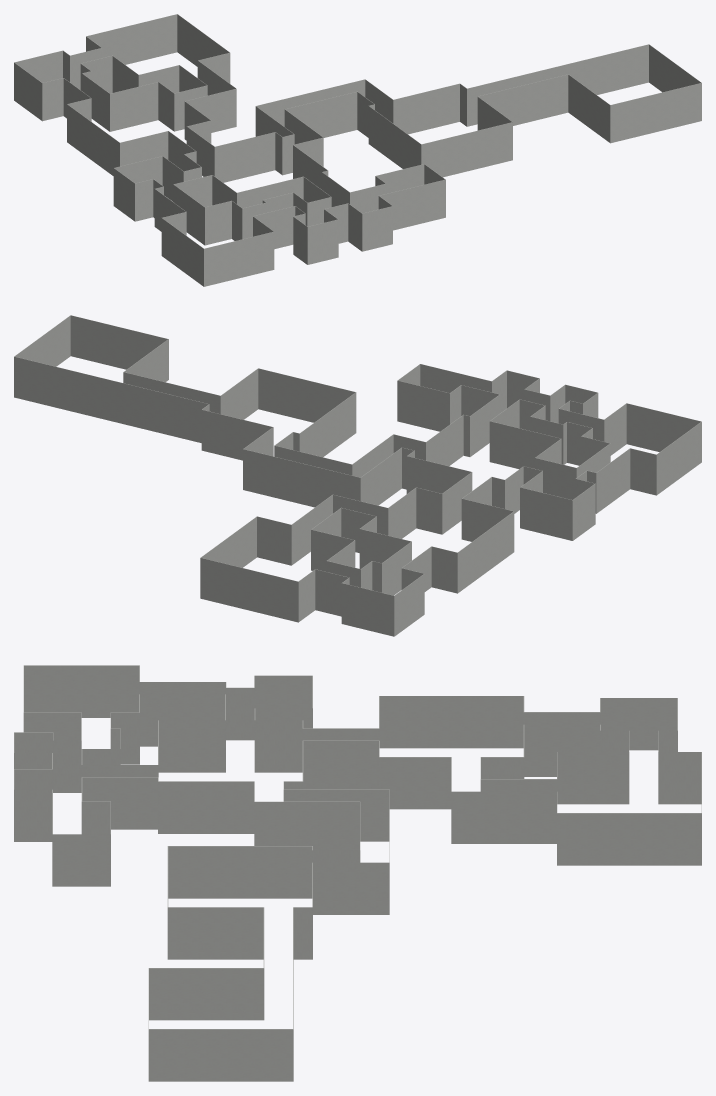
Rendered from Level2Walls.fbx.
3 views of the same model, one above another, from view 1: azimuth 30°, elevation 25°; view 2: azimuth 150°, elevation 25°; view 3: azimuth 270°, elevation 25° (orthographic). The views are drawn at different scales.
Visible parts, largest first — view 1: Level2Walls; view 2: Level2Walls; view 3: Level2Walls.
Boxes of the visible parts, x1,y1,x2,y2 form: Level2Walls: (14,14,701,286); Level2Walls: (14,315,701,636); Level2Walls: (14,665,701,1081).
Size of the model in its own units: 89.6 by 6 by 71.6.
